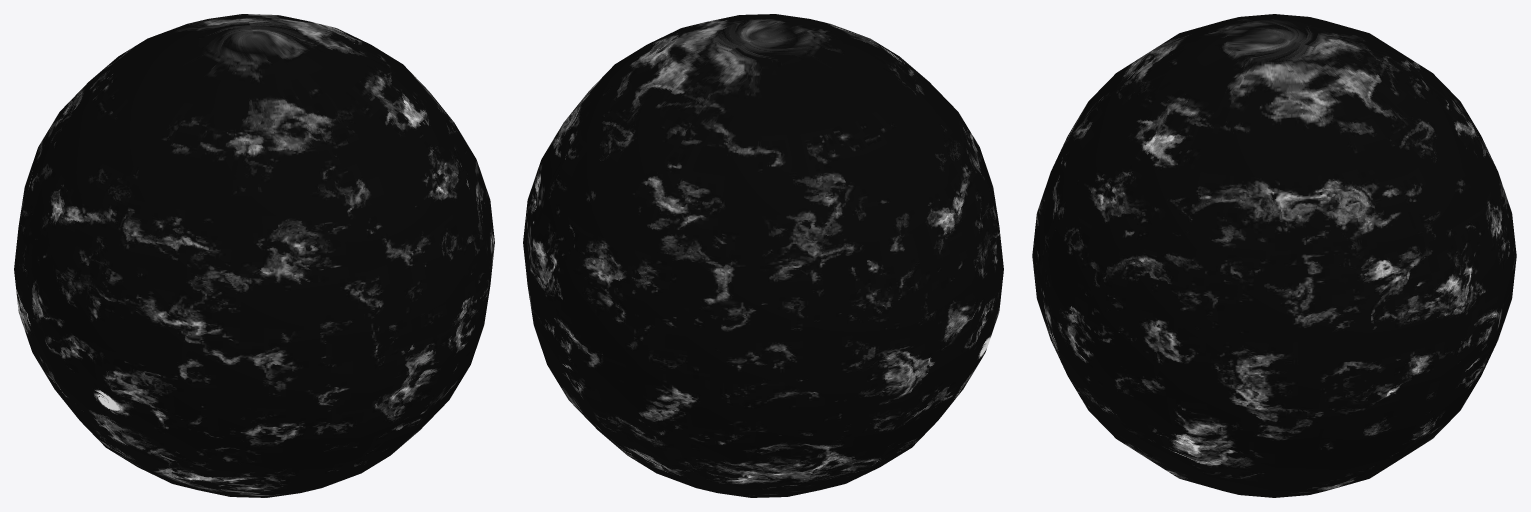
The model's file is kepler-452b.glb.
3 renders of one model, left to right at view 1: azimuth 30°, elevation 25°; view 2: azimuth 150°, elevation 25°; view 3: azimuth 270°, elevation 25°, orthographic.
Bounding box in the file's own units: 207 × 207 × 207.
2 materials, 2 textured.
